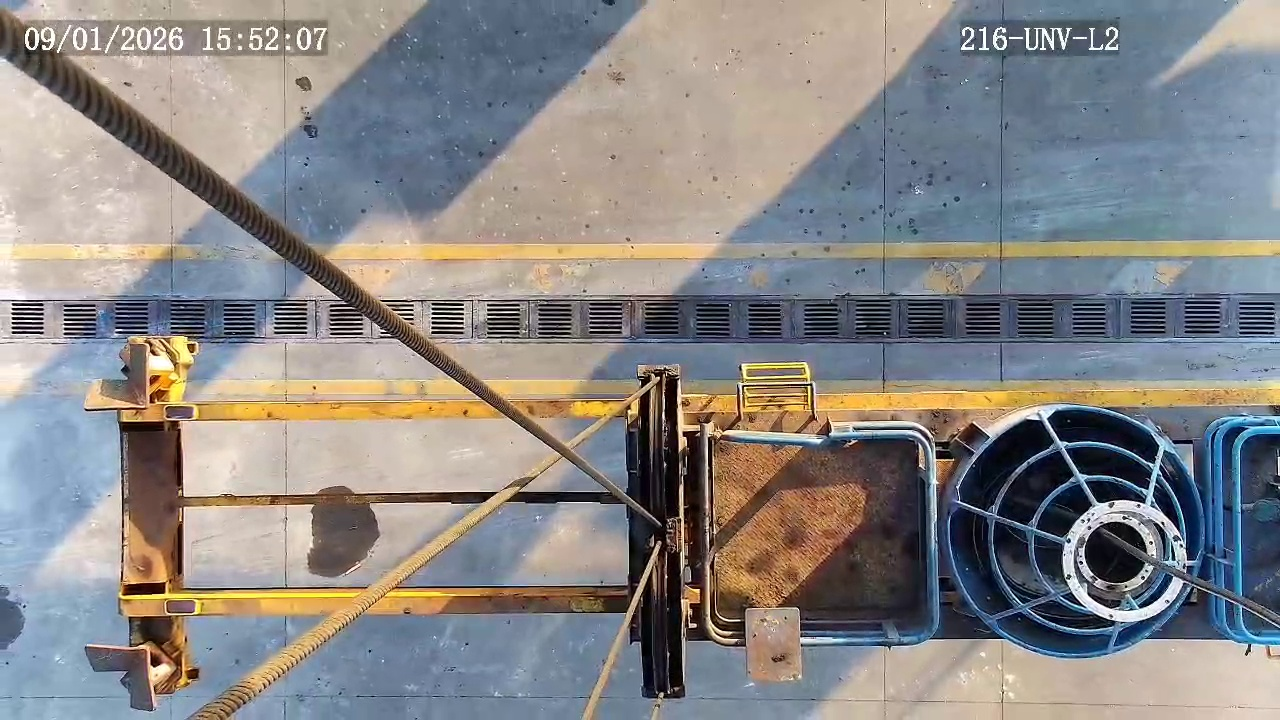left: (1062, 499, 1188, 620)
